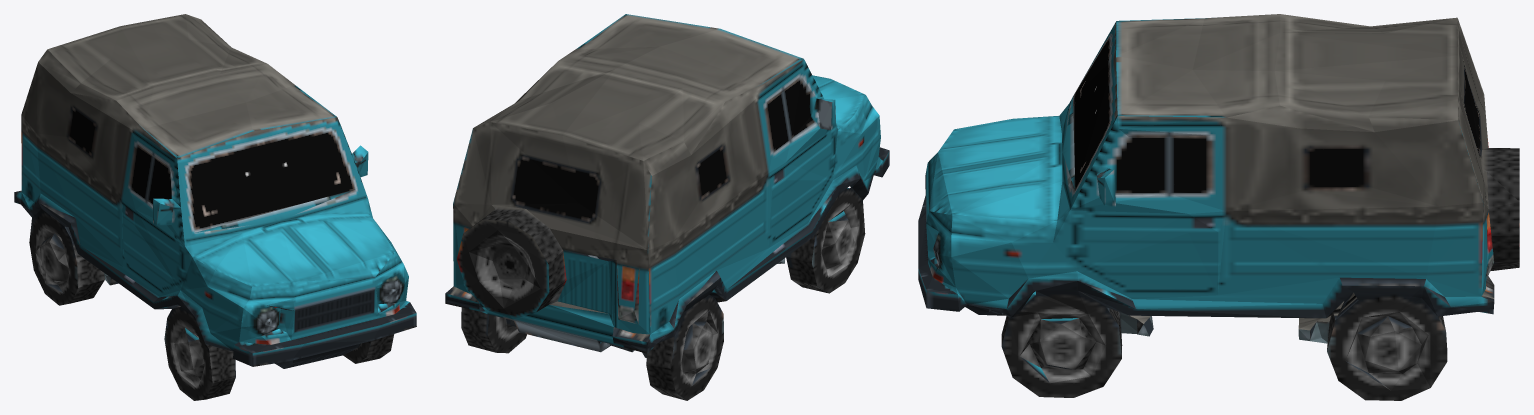
3 views of the same model, side by side, from view 1: azimuth 30°, elevation 25°; view 2: azimuth 150°, elevation 25°; view 3: azimuth 270°, elevation 25° (orthographic). The views are drawn at different scales.
Size of the model in its own units: 1.72 by 1.8 by 3.42.
1 material, 1 textured.
